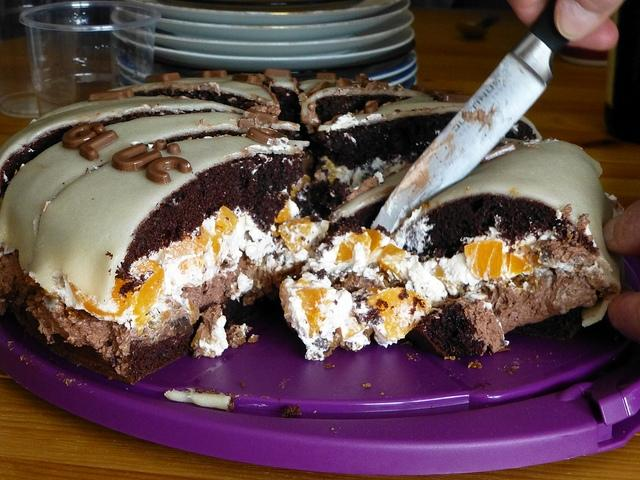peach: (368, 288, 432, 339), (133, 268, 166, 334), (295, 286, 326, 338), (163, 226, 211, 259), (464, 241, 503, 278), (278, 216, 312, 253), (377, 243, 406, 278), (320, 156, 344, 186), (211, 225, 233, 256), (506, 253, 534, 276), (216, 206, 239, 230), (290, 174, 310, 201), (334, 239, 354, 264), (362, 228, 382, 253), (115, 292, 134, 316), (274, 199, 291, 224), (346, 323, 364, 338), (432, 265, 444, 278), (314, 169, 326, 182)
